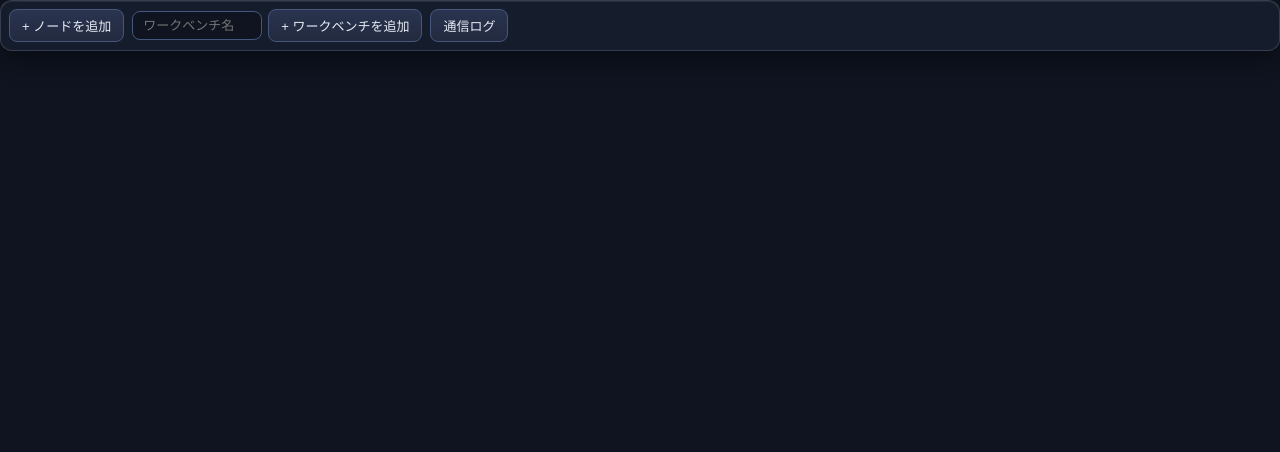
Test case: add-node pair hint (Issue #251: why EL/CL is a pair) › nested hover independence (Issue #221 useHoverPopover) › keeps the outer hint open when the cursor moves from the term back into the outer hint body
Hover over the element showing "+ ノードを追加" at (67, 26), box [9,9,124,42]
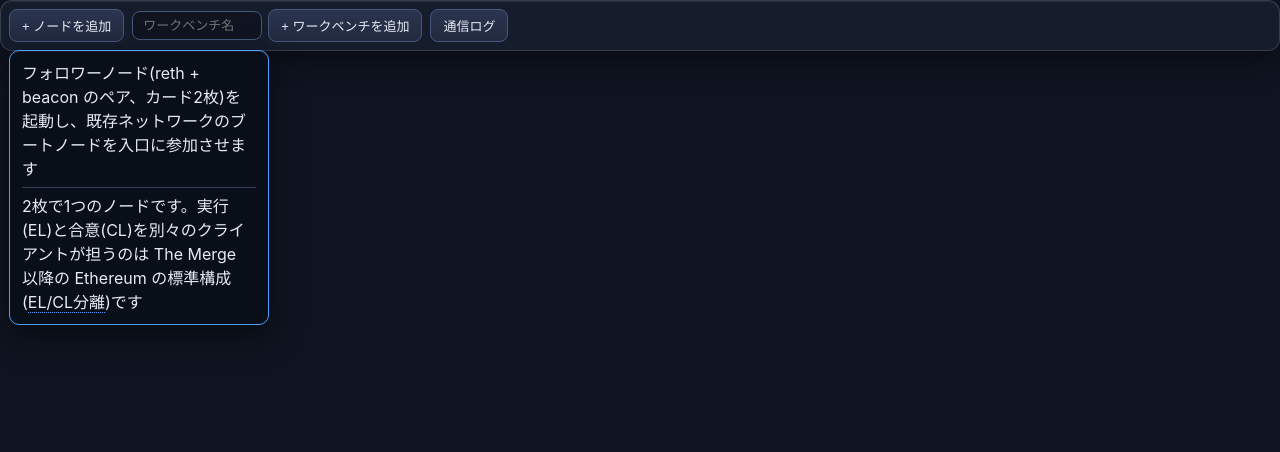
Hover over the button with test id "glossary-term-el-cl-separation" at (66, 302), box [28,292,105,312]
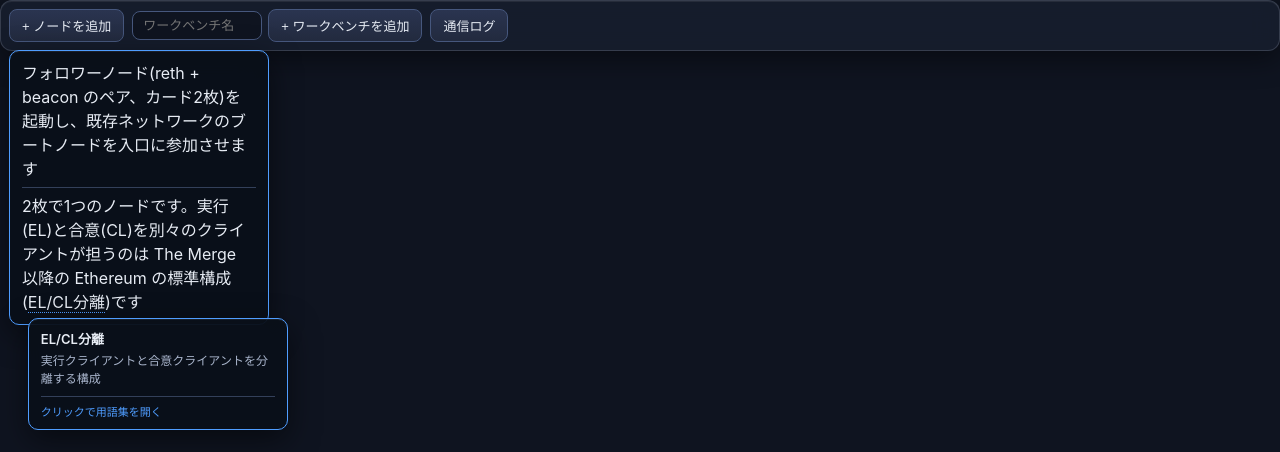
Check: the tooltip with test id "glossary-popover-el-cl-separation" is shown, box [28,318,288,430]
Move the pointer off the button with test id "glossary-term-el-cl-separation", box [28,292,105,312]
Wait 200 ms
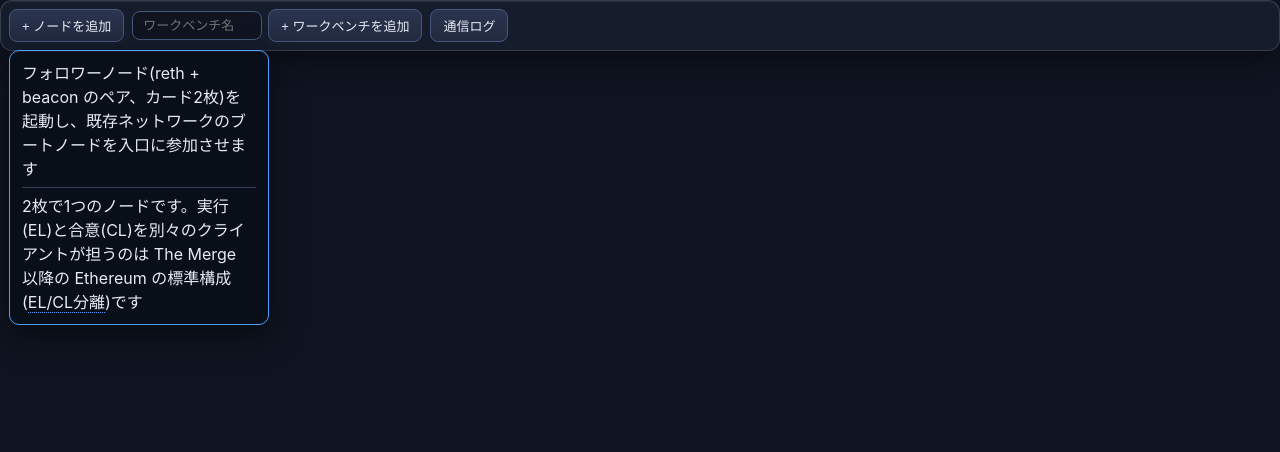
Check: the tooltip is shown, box [9,50,269,325]
Check: the tooltip with test id "glossary-popover-el-cl-separation" is gone
